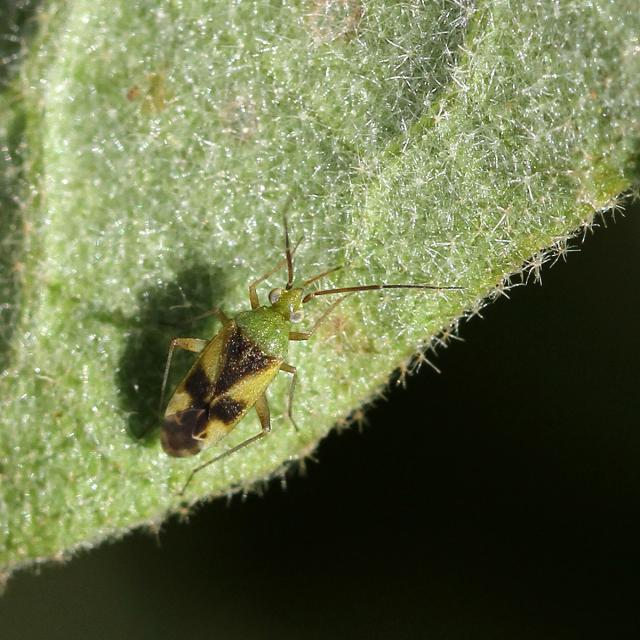stink_bug: (120, 200, 468, 502)
